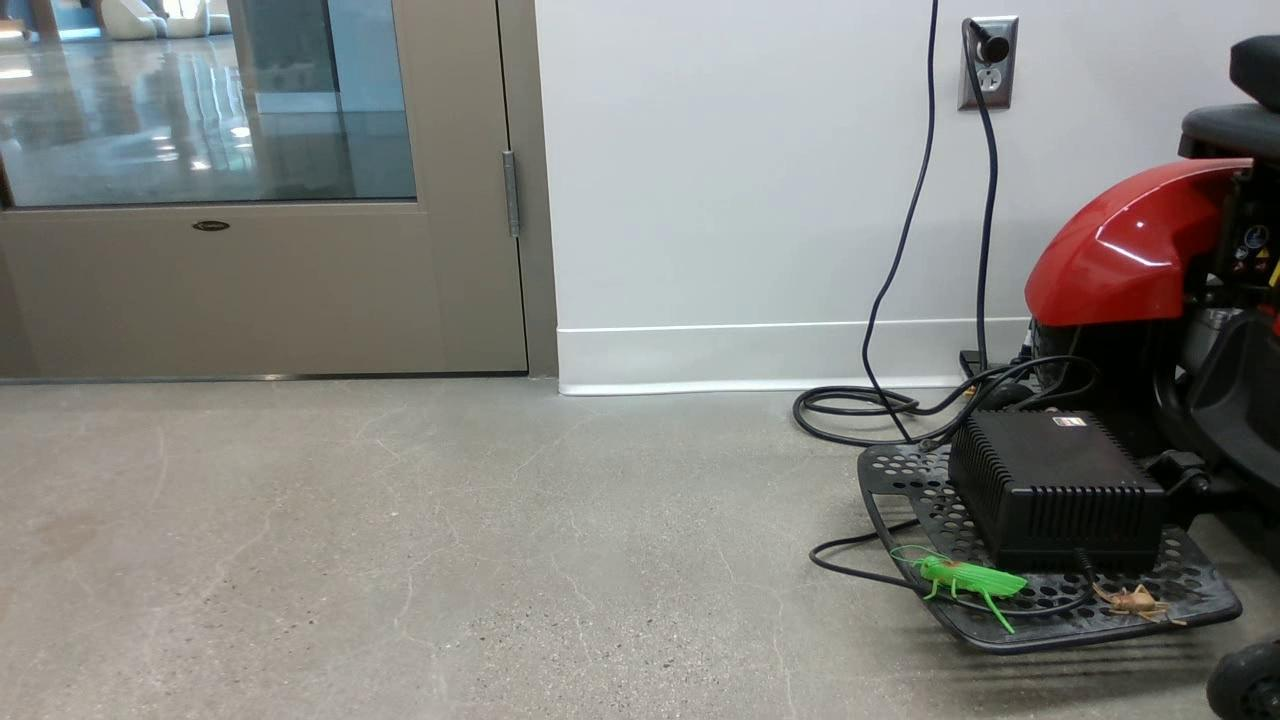grasshopper: (919, 553, 1028, 635)
